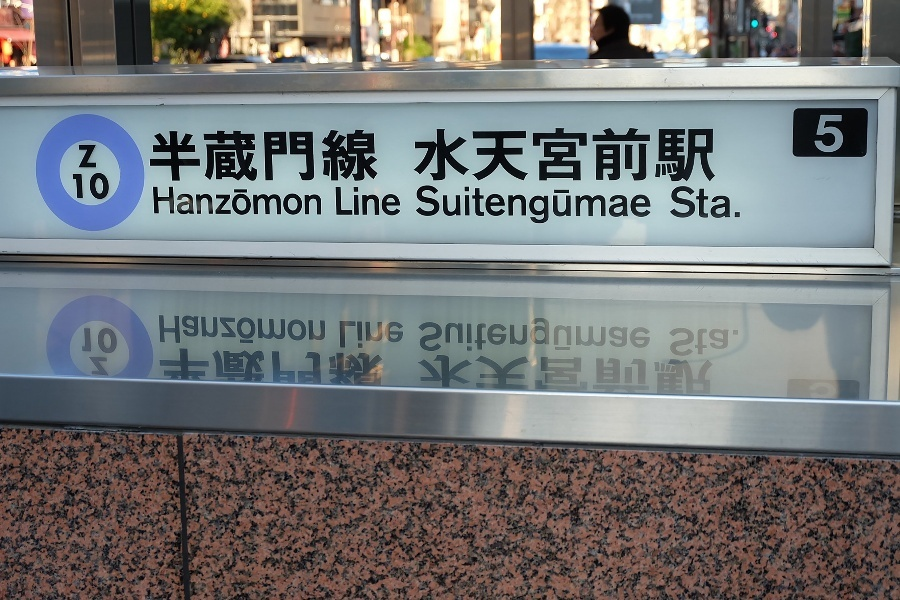text: (417, 128, 432, 182), (433, 128, 448, 182), (449, 128, 464, 182), (465, 128, 480, 182), (481, 128, 496, 182), (497, 128, 512, 182), (513, 128, 528, 182), (529, 128, 544, 182), (545, 128, 560, 182), (561, 128, 576, 182), (577, 128, 592, 182), (593, 128, 608, 182), (609, 128, 624, 182), (625, 128, 640, 182), (641, 128, 656, 182), (657, 128, 672, 182), (673, 128, 688, 182), (689, 128, 704, 182), (161, 308, 176, 362), (177, 308, 192, 362), (193, 308, 208, 362), (209, 308, 224, 362), (225, 308, 240, 362), (241, 308, 256, 362), (257, 308, 272, 362), (273, 308, 288, 362), (289, 308, 304, 362), (305, 308, 320, 362), (321, 308, 336, 362), (337, 308, 352, 362), (353, 308, 368, 362), (369, 308, 384, 362), (385, 308, 400, 362), (401, 308, 416, 362), (417, 308, 432, 362), (433, 308, 448, 362), (449, 308, 464, 362), (465, 308, 480, 362), (481, 308, 496, 362), (497, 308, 512, 362), (513, 308, 528, 362), (529, 308, 544, 362), (545, 308, 560, 362), (561, 308, 576, 362), (577, 308, 592, 362), (593, 308, 608, 362), (609, 308, 624, 362), (625, 308, 640, 362), (641, 308, 656, 362), (657, 308, 672, 362), (673, 308, 688, 362), (689, 308, 704, 362), (705, 308, 720, 362), (721, 308, 736, 362), (161, 131, 176, 184), (177, 131, 192, 184), (193, 131, 208, 184), (209, 131, 224, 184), (225, 131, 240, 184), (241, 131, 256, 184), (257, 131, 272, 184), (273, 131, 288, 184), (289, 131, 304, 184), (305, 131, 320, 184), (321, 131, 336, 184), (337, 131, 352, 184), (353, 131, 368, 184), (177, 346, 192, 397), (193, 346, 208, 397), (209, 346, 224, 397), (225, 346, 240, 397), (241, 346, 256, 397), (257, 346, 272, 397), (273, 346, 288, 397), (289, 346, 304, 397), (305, 346, 320, 397), (321, 346, 336, 397), (337, 346, 352, 397), (353, 346, 368, 397), (369, 346, 384, 397), (385, 346, 400, 397), (401, 346, 416, 397), (417, 346, 432, 397), (433, 346, 448, 397), (449, 346, 464, 397), (465, 346, 480, 397), (481, 346, 496, 397), (497, 346, 512, 397), (513, 346, 528, 397), (529, 346, 544, 397), (545, 346, 560, 397), (561, 346, 576, 397), (577, 346, 592, 397), (593, 346, 608, 397), (609, 346, 624, 397), (625, 346, 640, 397), (641, 346, 656, 397), (657, 346, 672, 397), (673, 346, 688, 397), (689, 346, 704, 397), (81, 330, 96, 378), (97, 330, 112, 378), (162, 346, 176, 397), (705, 128, 716, 182), (417, 186, 432, 225), (433, 186, 448, 225), (449, 186, 464, 225), (465, 186, 480, 225), (481, 186, 496, 225), (497, 186, 512, 225), (513, 186, 528, 225), (529, 186, 544, 225), (545, 186, 560, 225), (561, 186, 576, 225), (577, 186, 592, 225), (593, 186, 608, 225), (609, 186, 624, 225), (625, 186, 640, 225), (369, 131, 380, 184), (817, 116, 832, 153), (150, 131, 160, 184), (673, 186, 688, 218), (689, 186, 704, 218), (705, 186, 720, 218), (721, 186, 736, 218), (305, 187, 321, 216), (385, 187, 401, 216), (161, 187, 176, 216), (177, 187, 192, 216), (193, 187, 208, 216), (209, 187, 224, 216), (225, 187, 240, 216), (241, 187, 256, 216), (257, 187, 272, 216), (273, 187, 288, 216), (289, 187, 304, 216), (337, 187, 352, 216), (353, 187, 368, 216), (369, 187, 384, 216), (641, 186, 652, 225), (833, 116, 844, 153), (81, 173, 96, 199), (81, 145, 97, 168), (705, 346, 712, 397), (97, 173, 110, 199), (113, 330, 119, 378), (817, 382, 832, 401), (153, 187, 160, 216), (73, 173, 80, 199), (737, 308, 740, 362), (833, 382, 841, 401), (737, 186, 741, 218), (810, 382, 816, 401), (415, 128, 416, 182), (671, 186, 672, 218), (79, 145, 80, 168)
